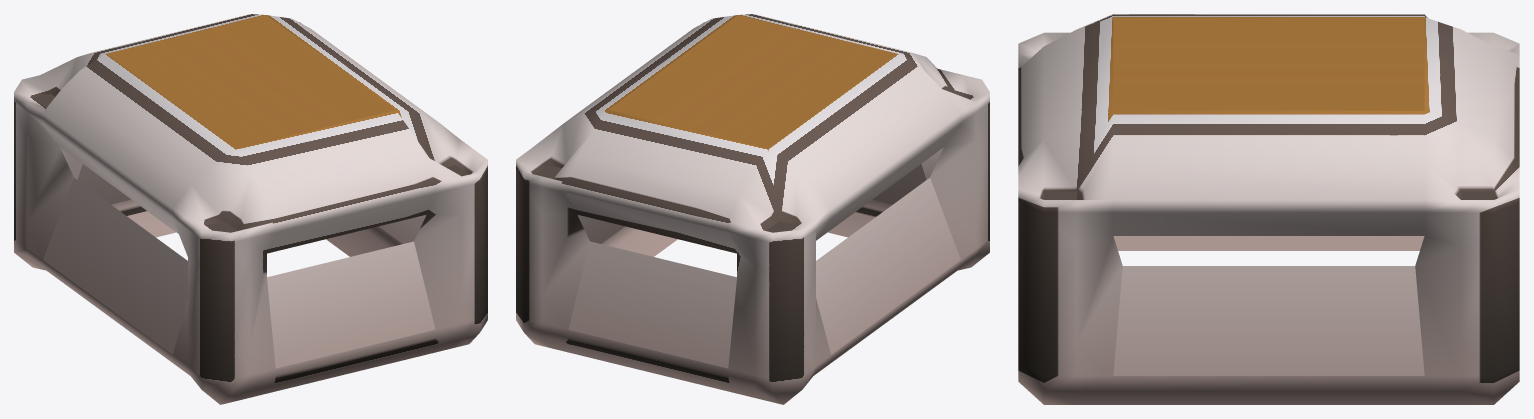
The model's file is Building_main.fbx.
The picture shows the model from 3 angles, left to right: view 1: azimuth 30°, elevation 25°; view 2: azimuth 150°, elevation 25°; view 3: azimuth 270°, elevation 25°; orthographic projection. The views are drawn at different scales.
Visible parts, largest first — view 1: Building_main; view 2: Building_main; view 3: Building_main.
Boxes of the visible parts, x1,y1,x2,y2 form: Building_main: [14, 14, 487, 404]; Building_main: [516, 14, 989, 404]; Building_main: [1018, 14, 1519, 404].
Size of the model in its own units: 7.5 by 5.61 by 9.5.
1 material, 1 textured.
